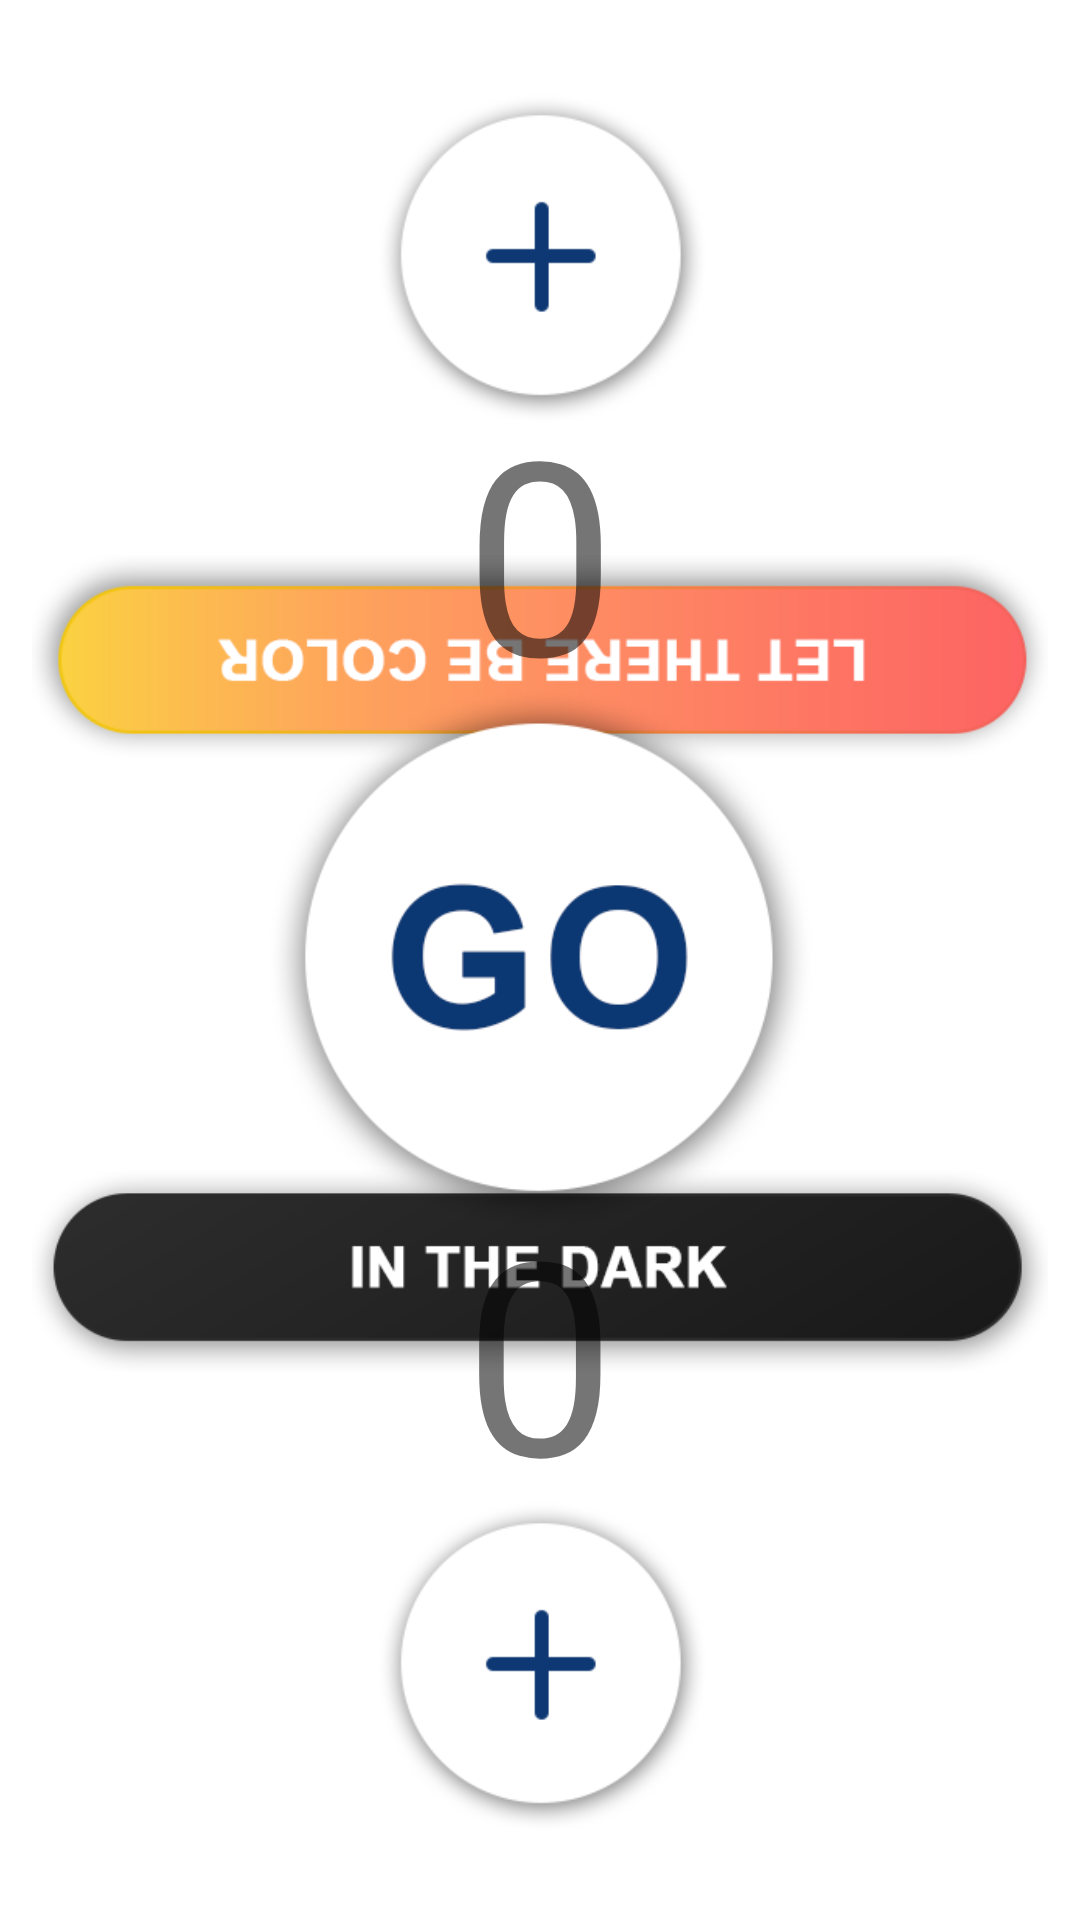

Point at icon controls on the screen. Image size 1080×1920, points as (x=x, y=y).
plus: (x=542, y=258), (x=542, y=1666)
